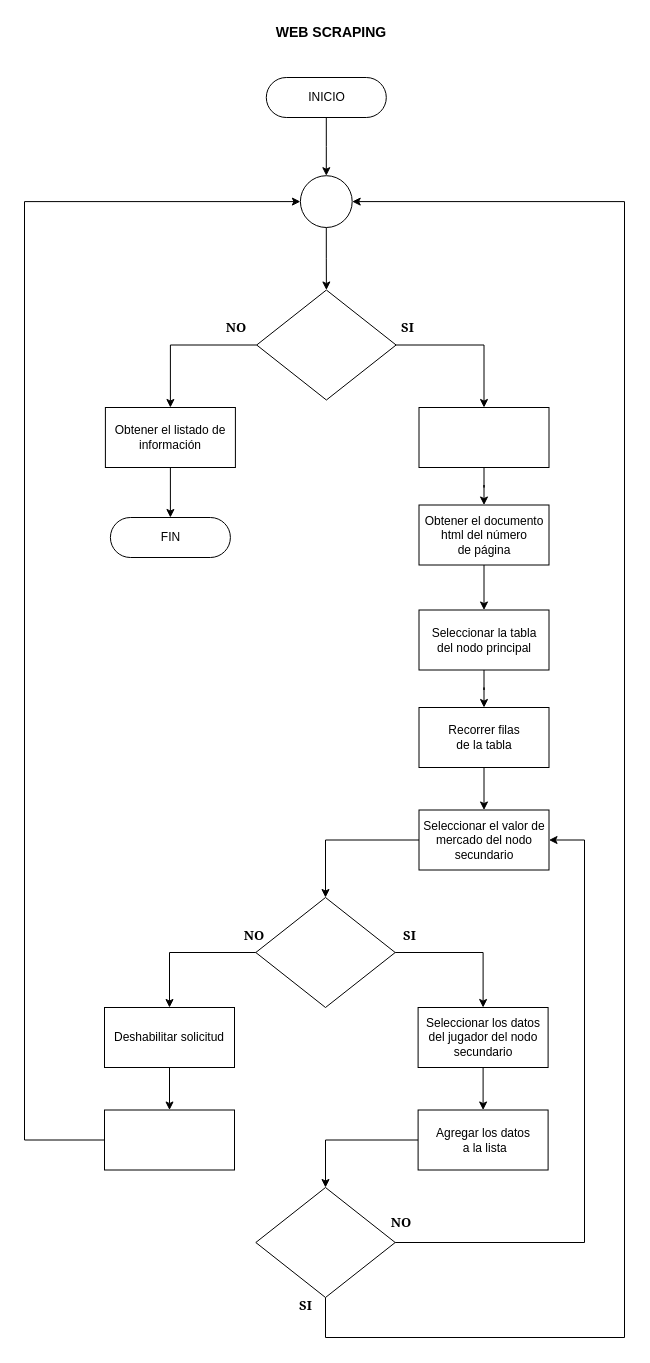
Some shapes in this 650 by 1363 pixel diagram are drawn without their labels. The shapes that lost their labels are listed below. From the top down, each one's centre as x and y in pixels, then its label:
the point at 326,344: ¿La solicitud está habilitada?
the point at 483,437: Incrementar en 1 el número de página
the point at 325,952: ¿El valor de mercado es mayor o igual a 30 millones?
the point at 169,1139: Interrumpir el recorrido de la tabla
the point at 325,1242: ¿Se terminó el recorrido de la tabla?
